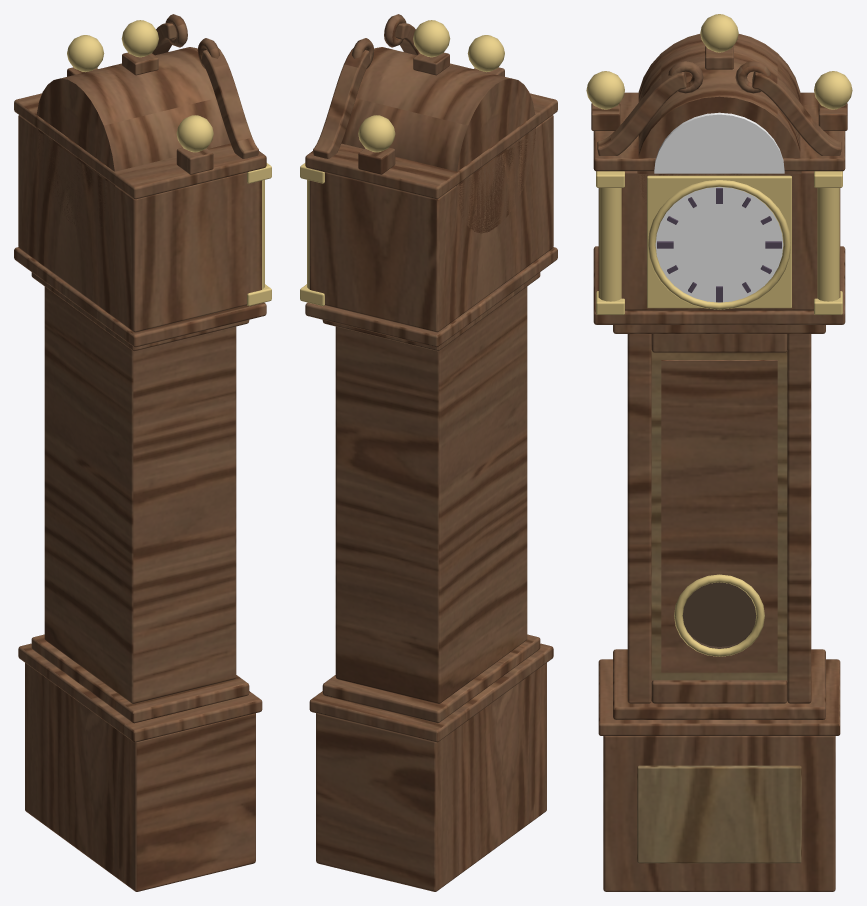
File: clock_case.glb
3 renders of one model, left to right at view 1: azimuth 30°, elevation 25°; view 2: azimuth 150°, elevation 25°; view 3: azimuth 270°, elevation 25°, orthographic. The views are drawn at different scales.
Visible parts, largest first — view 1: clock_case; view 2: clock_case; view 3: clock_case.
Boxes of the visible parts, x1,y1,x2,y2 form: clock_case: [14, 14, 271, 891]; clock_case: [300, 14, 557, 891]; clock_case: [586, 14, 852, 891].
Bounding box in the file's own units: 0.4507 × 2.5 × 0.7124.
6 materials, 2 textured.
